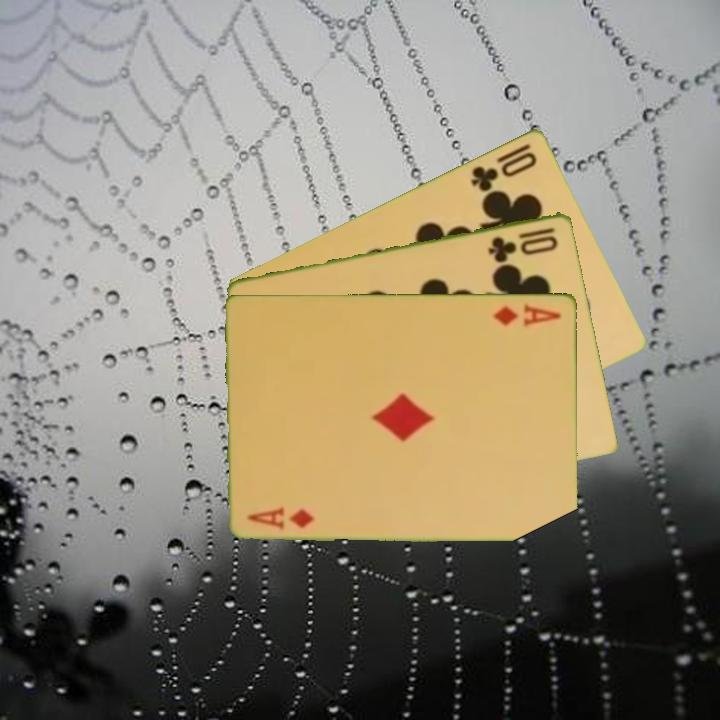10c: (467, 139, 541, 194), (485, 223, 561, 264)
Ad: (490, 299, 564, 329), (244, 503, 318, 532)
